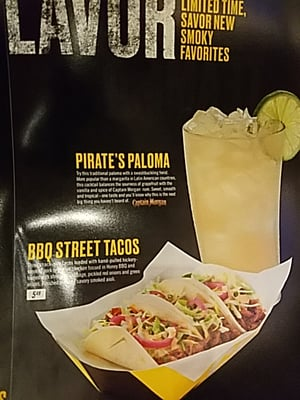burger: (93, 276, 254, 366)
